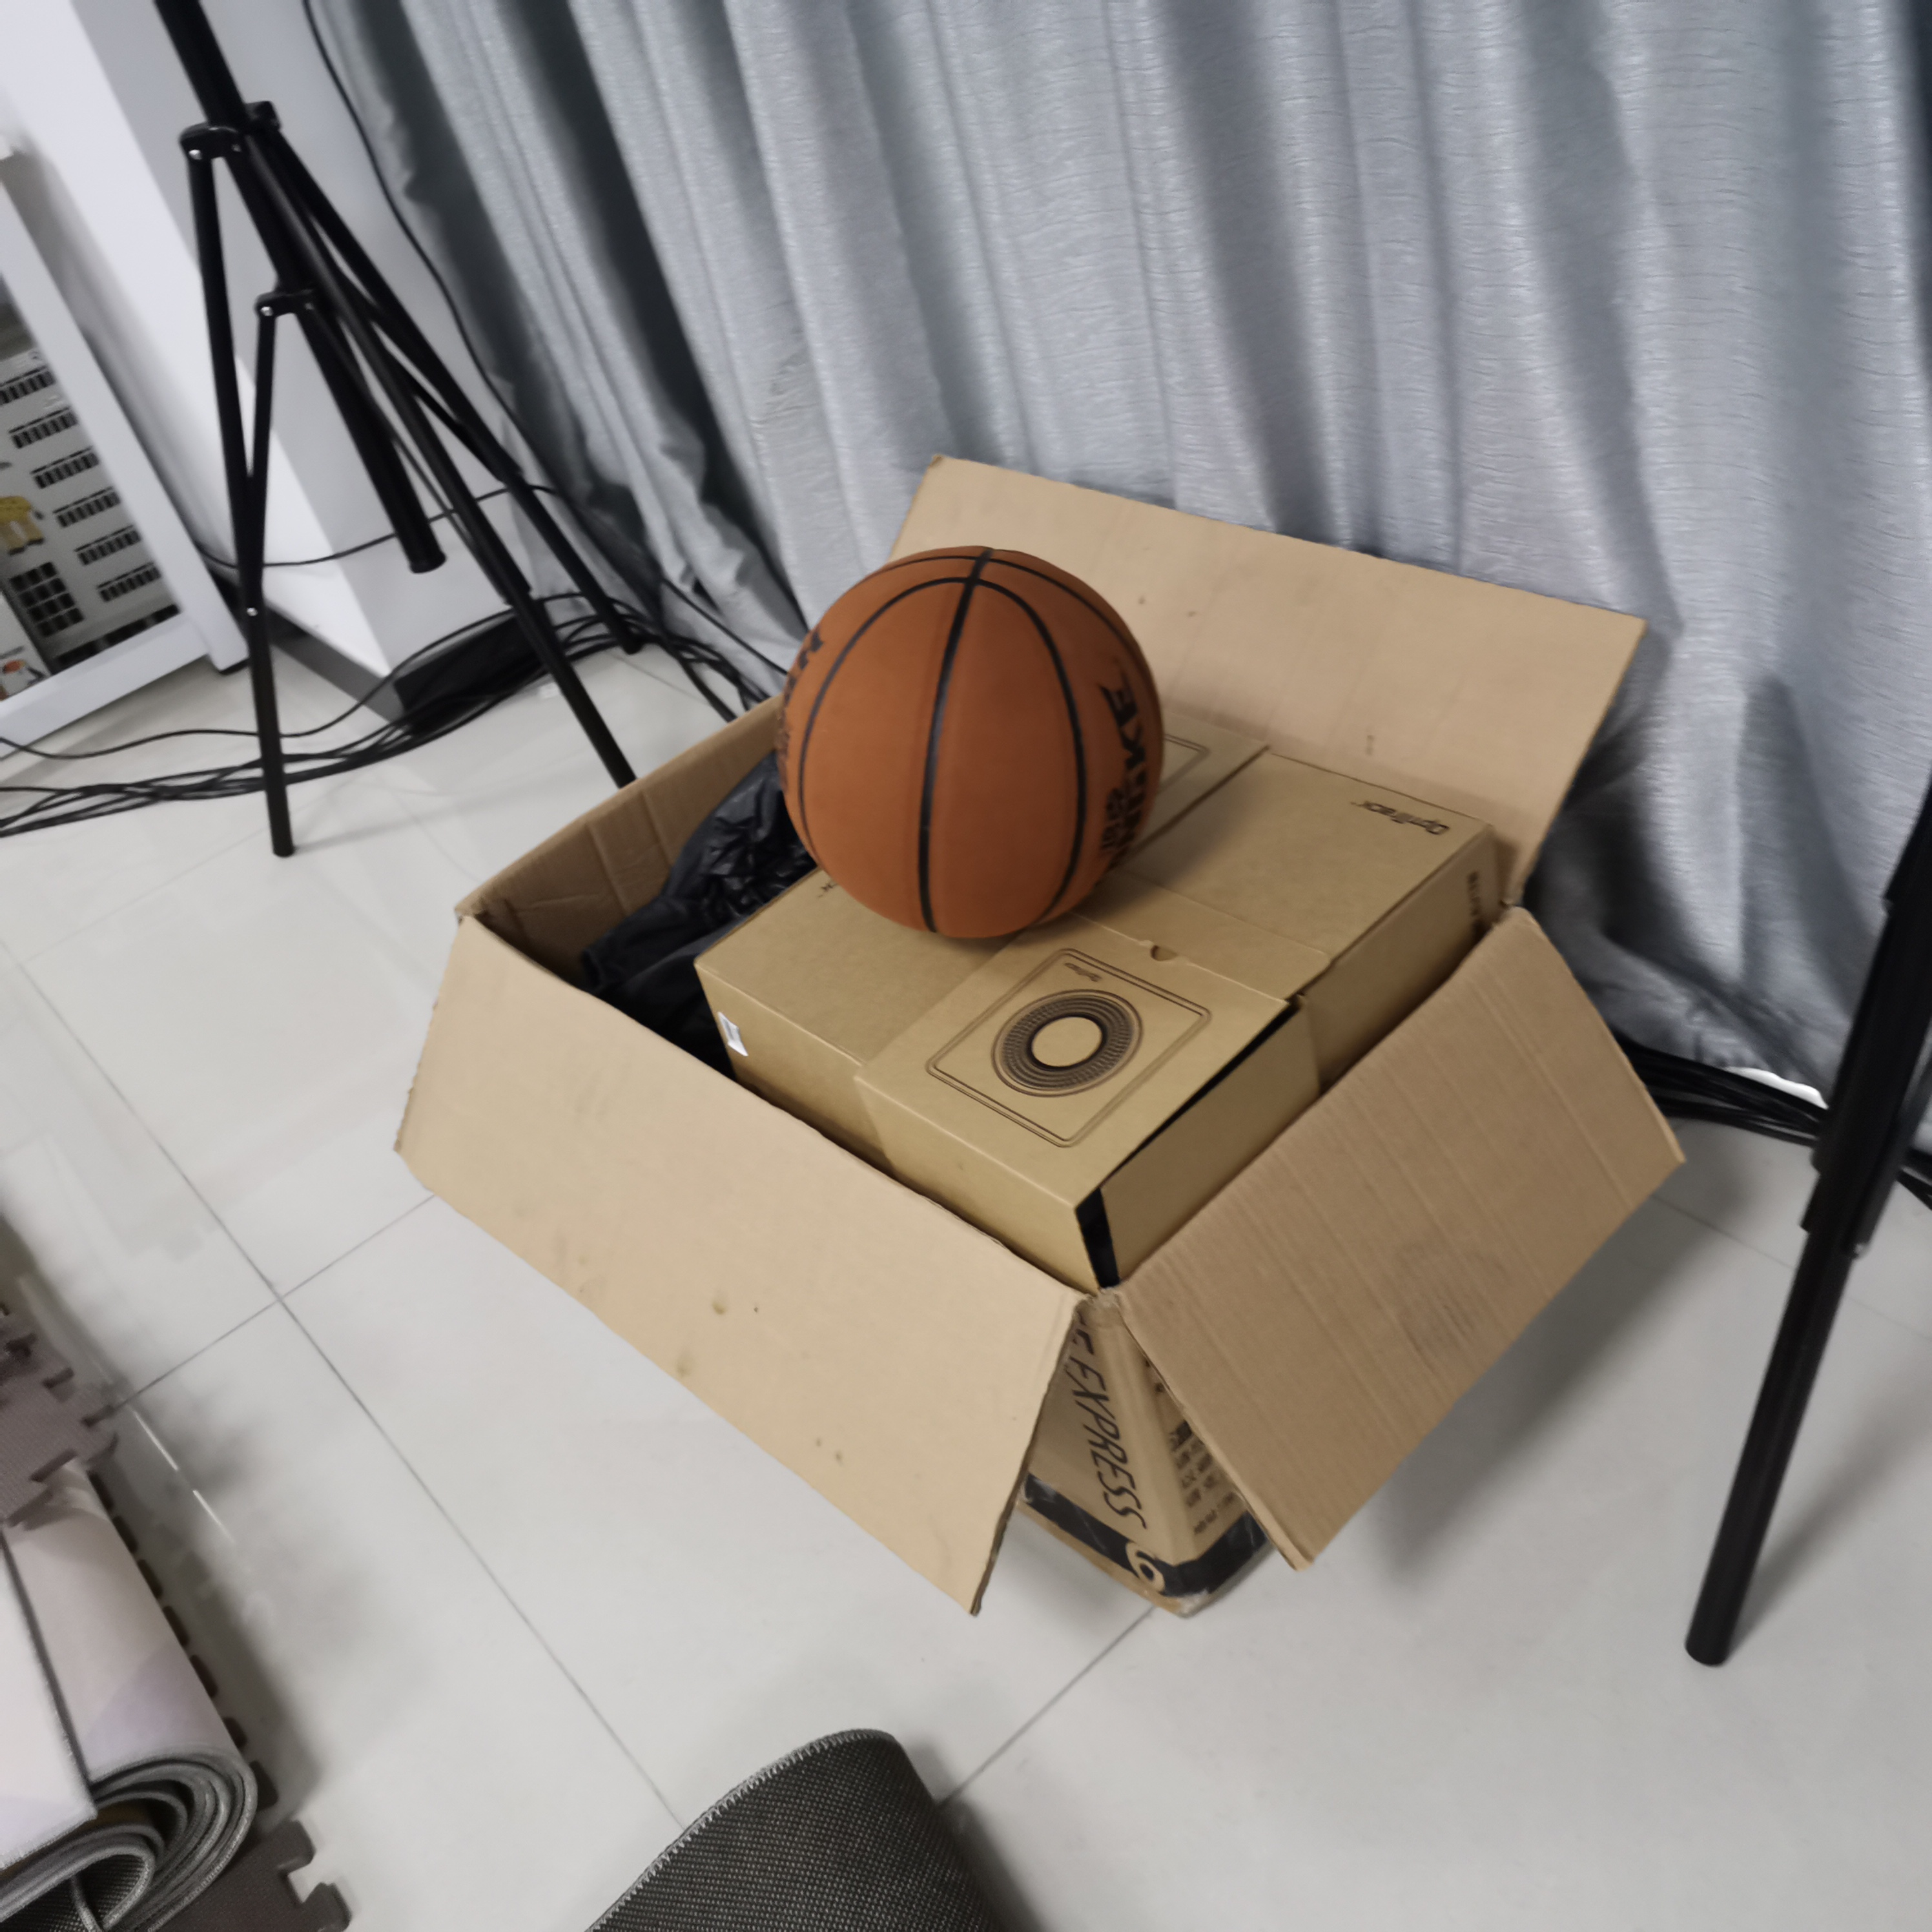basketball: (775, 548, 1162, 941)
